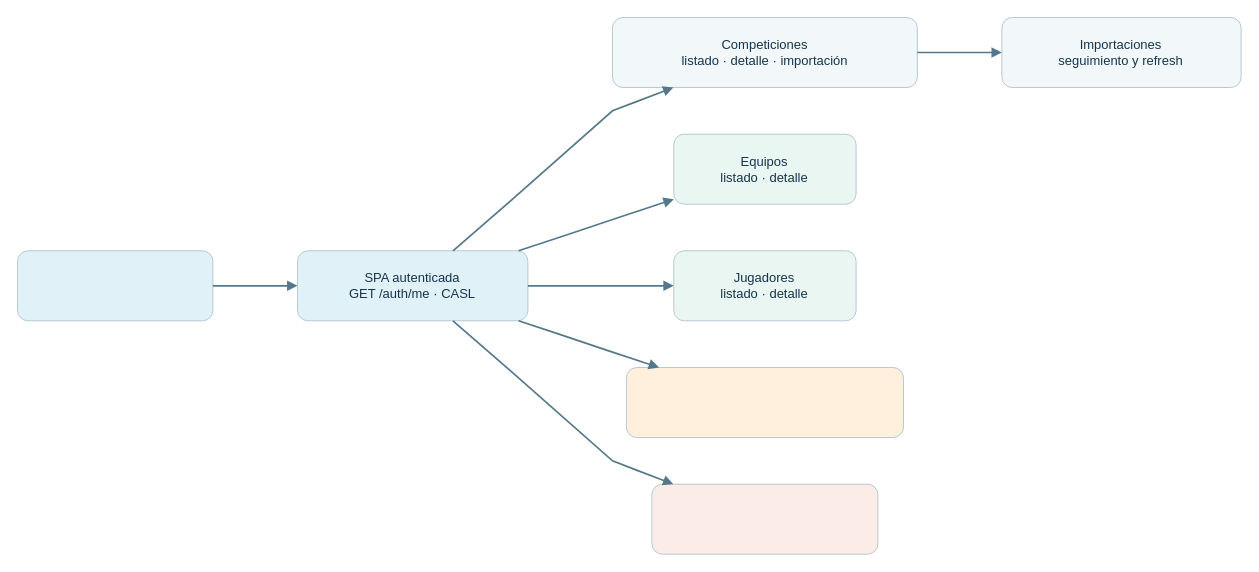
This 1259x572 diagram has some shape labels left out. Here are the shapes that lost their labels. From the top down, the centre of each, then its label:
At point 114,285: "Login POST /auth/login".
At point 764,402: "Administración usuarios · roles · permisos".
At point 764,518: "Cerrar sesión revocación Passport".
